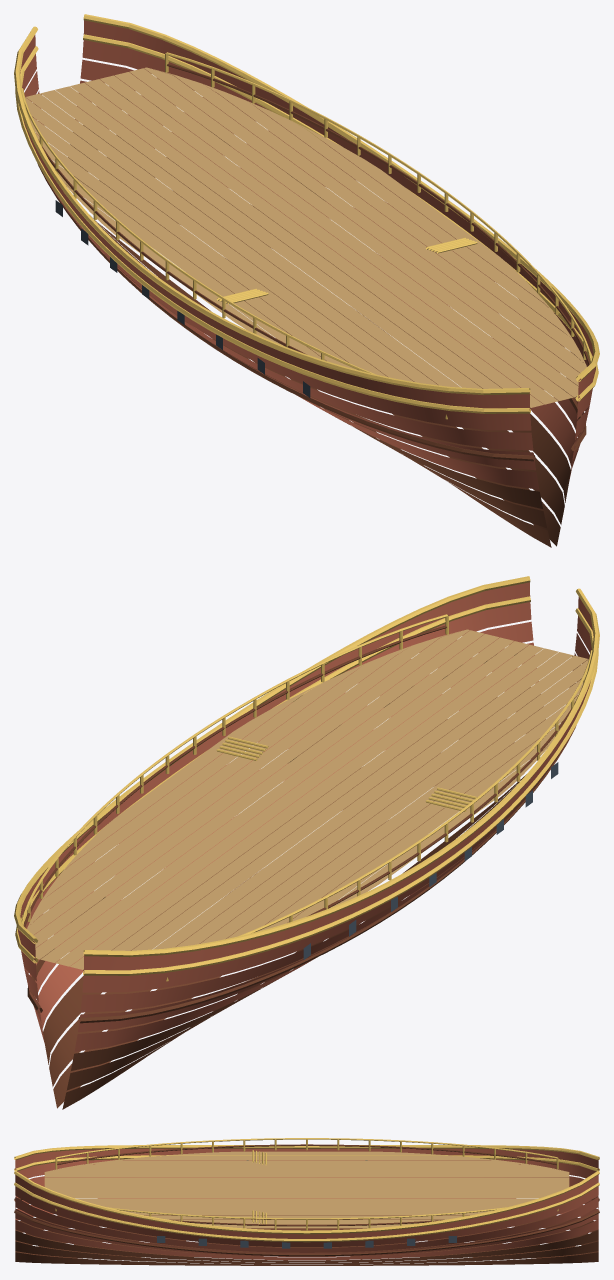
The model's file is oro-jackson-hull.glb.
The picture shows the model from 3 angles, top to bottom: view 1: azimuth 30°, elevation 25°; view 2: azimuth 150°, elevation 25°; view 3: azimuth 270°, elevation 25°; orthographic projection. The views are drawn at different scales.
Parts seen in each view (by area): view 1: hull-role-deck.020, hull-role-hull.020, hull-role-trim.020, hull-role-hullDark.020, hull-role-metal.020; view 2: hull-role-deck.020, hull-role-hull.020, hull-role-trim.020, hull-role-hullDark.020, hull-role-metal.020; view 3: hull-role-deck.020, hull-role-hull.020, hull-role-hullDark.020, hull-role-trim.020, hull-role-metal.020.
Boxes of the visible parts, x1,y1,x2,y2 form: hull-role-deck.020: [25, 67, 586, 407]; hull-role-hull.020: [20, 20, 595, 489]; hull-role-trim.020: [14, 14, 599, 419]; hull-role-hullDark.020: [32, 63, 590, 547]; hull-role-metal.020: [55, 200, 310, 397]; hull-role-deck.020: [27, 629, 588, 969]; hull-role-hull.020: [18, 582, 593, 1051]; hull-role-trim.020: [14, 576, 599, 981]; hull-role-hullDark.020: [23, 625, 581, 1109]; hull-role-metal.020: [303, 762, 558, 959]; hull-role-deck.020: [44, 1151, 569, 1228]; hull-role-hull.020: [15, 1148, 598, 1260]; hull-role-hullDark.020: [14, 1144, 599, 1265]; hull-role-trim.020: [14, 1138, 599, 1242]; hull-role-metal.020: [157, 1160, 456, 1248].
Size of the model in its own units: 28.94 by 15.09 by 82.39.
